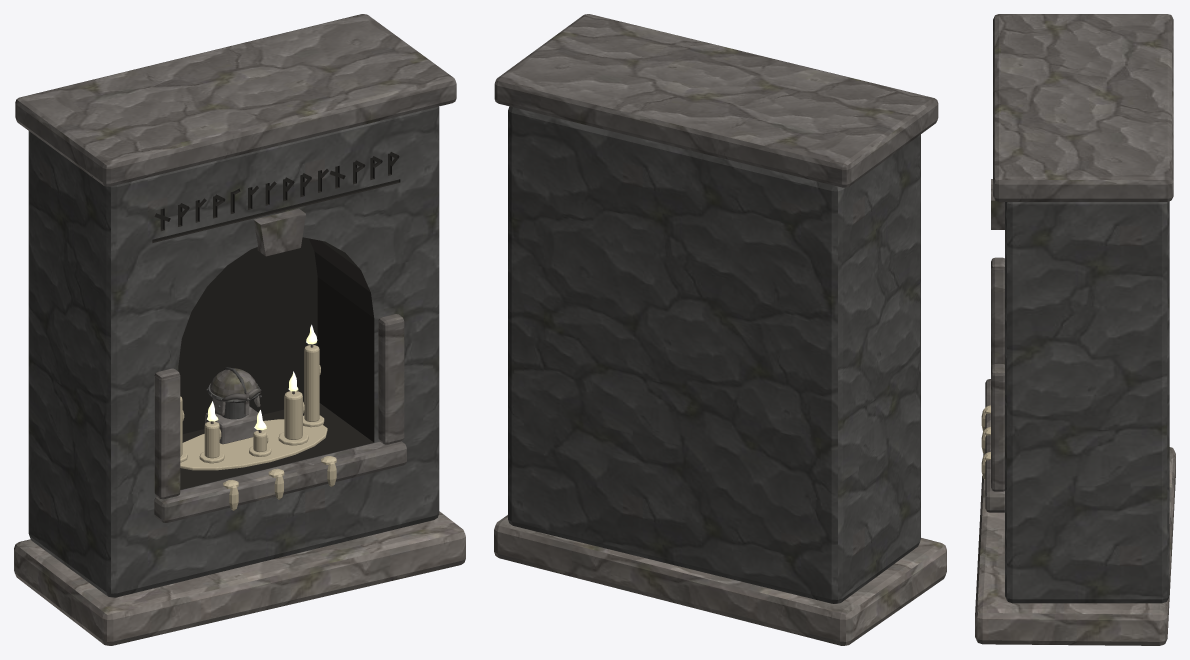
The model's file is th_niche_candles.glb.
3 renders of one model, left to right at view 1: azimuth 30°, elevation 25°; view 2: azimuth 150°, elevation 25°; view 3: azimuth 270°, elevation 25°, orthographic. The views are drawn at different scales.
Visible parts, largest first — view 1: model; view 2: model; view 3: model.
Part boxes in pixels (box(x1,y1,x2,y2)): model: box(14, 14, 465, 645); model: box(494, 14, 946, 645); model: box(975, 14, 1175, 645).
Bounding box in the file's own units: 1.03 × 1.31 × 0.512.
Materials: 7 (3 with a texture image).
